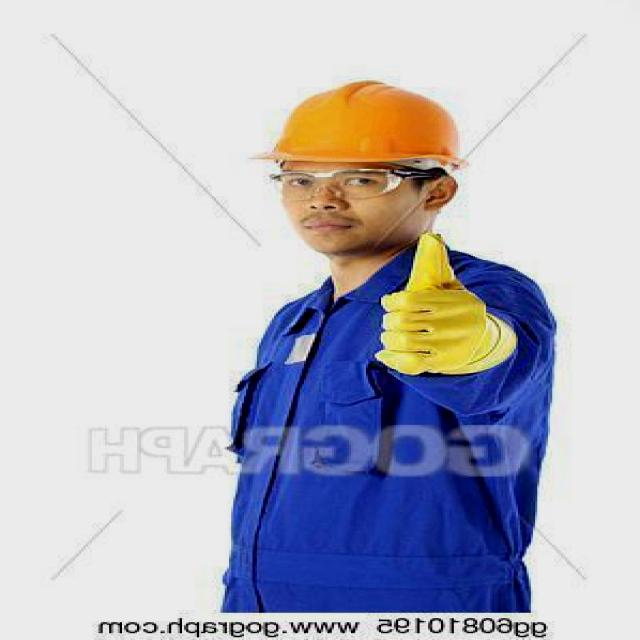face_nomask: (280, 153, 426, 255)
glasses: (266, 164, 402, 205)
hand_glove: (362, 237, 516, 378)
head_helmet: (252, 86, 480, 173)
person: (155, 69, 545, 613)
